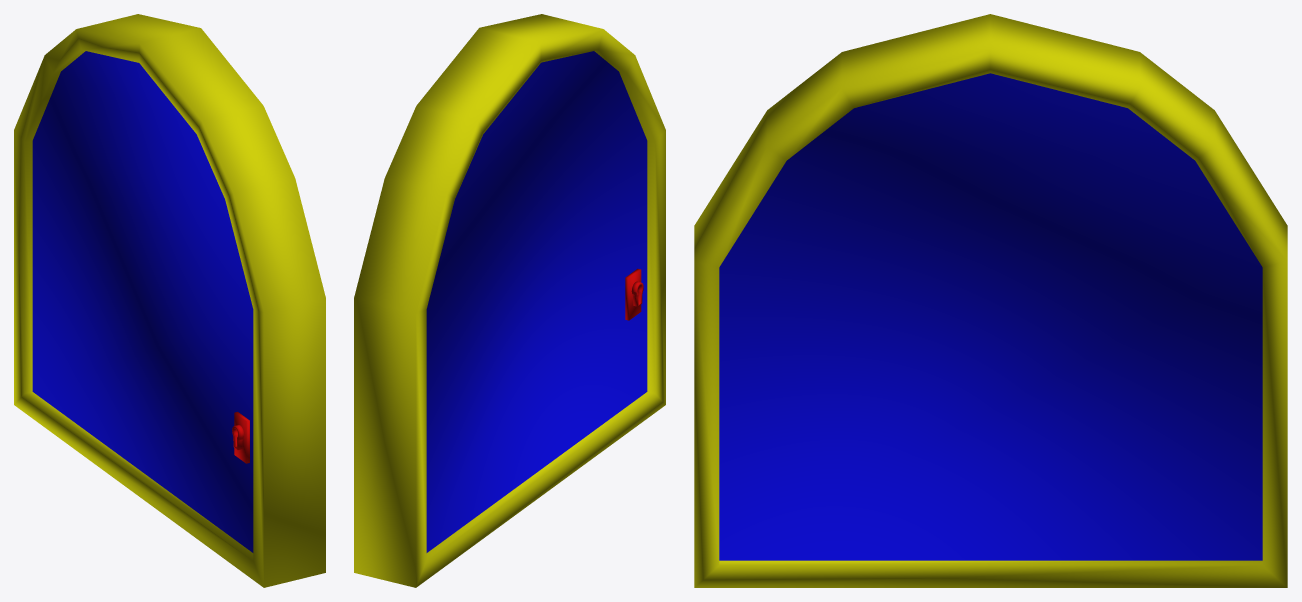
Rendered from Door4_Gizmo.FBX.
3 views of the same model, side by side, from view 1: azimuth 30°, elevation 25°; view 2: azimuth 150°, elevation 25°; view 3: azimuth 270°, elevation 25° (orthographic). The views are drawn at different scales.
Parts seen in each view (by area): view 1: Door4:Box002, Door4:serrure004; view 2: Door4:Box002, Door4:serrure004; view 3: Door4:Box002.
Boxes of the visible parts, box(x1,y1,x2,y2) form: Door4:Box002: box(14, 14, 325, 587); Door4:serrure004: box(234, 412, 249, 463); Door4:Box002: box(354, 14, 665, 587); Door4:serrure004: box(625, 268, 641, 320); Door4:Box002: box(694, 14, 1287, 587).
Size of the model in its own units: 14.22 by 97.73 by 97.61.
